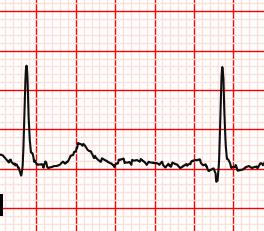Pathological Q Wave: (196, 153, 224, 184)
